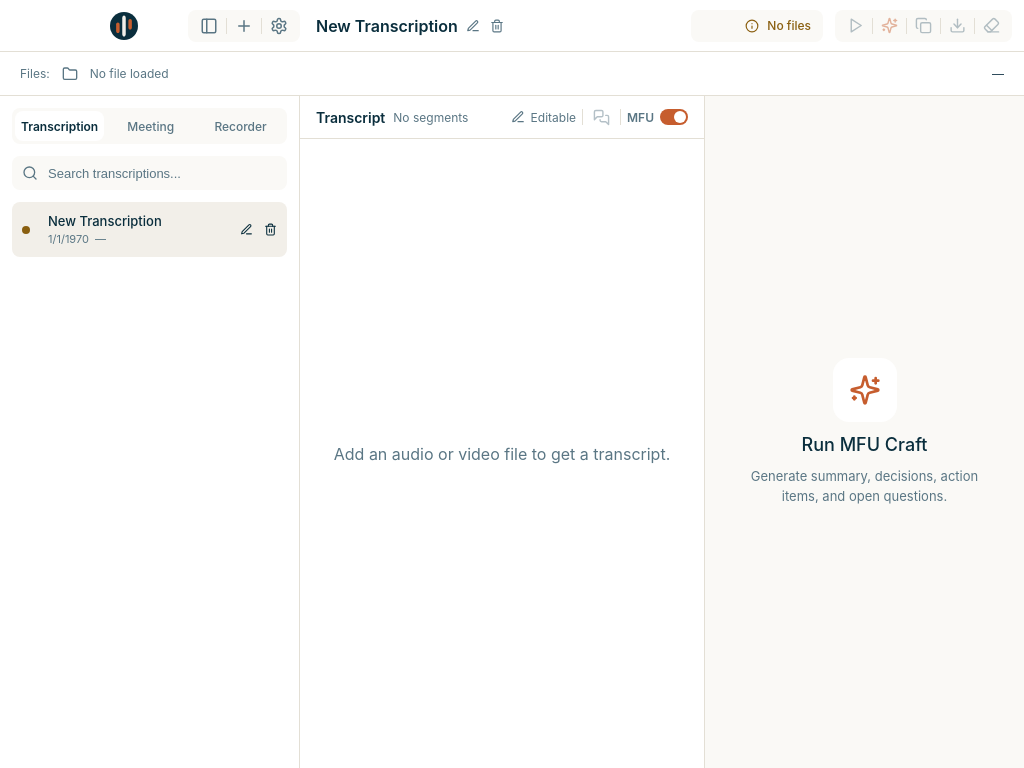
Scenario: App — transcript editing › keeps speaker-crossing transcript text selectable and activates only one segment editor by click
Click the button named "Choose file".
click(70, 74)  # box [58, 62, 82, 86]
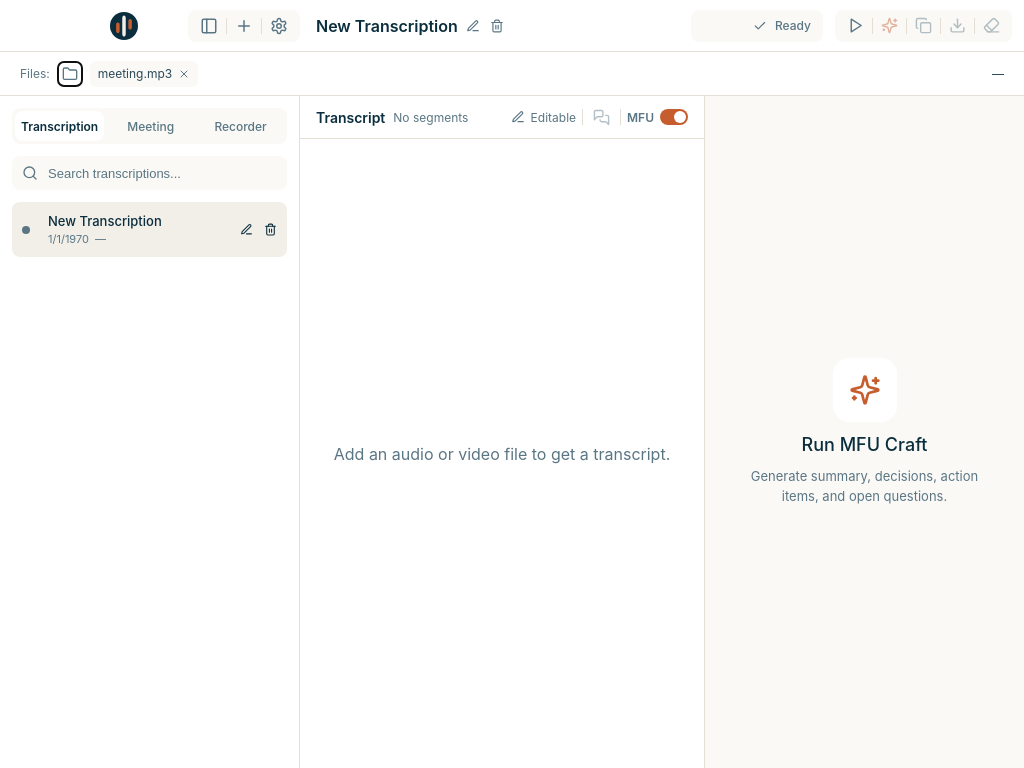
Check: the button named "Transcribe" is enabled
Click the button named "Transcribe".
click(856, 26)  # box [843, 13, 868, 38]
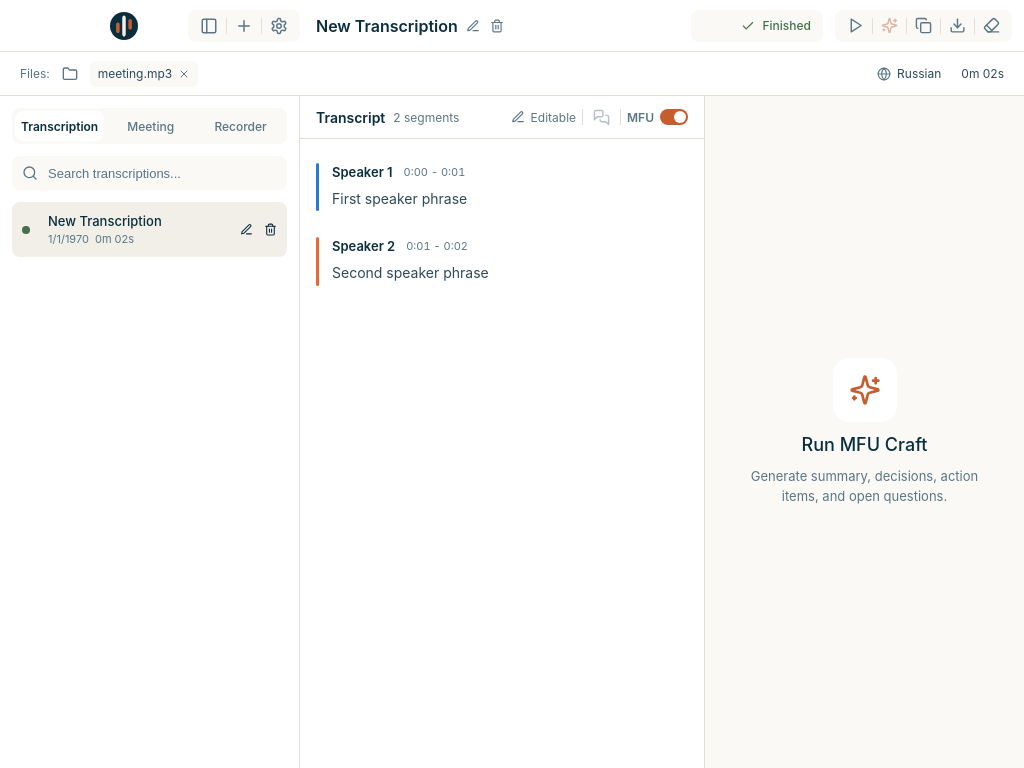
Check: the element with class "wp-transcript-content" is shown, box [316, 162, 489, 286]
Check: the button "Speaker 1" is shown, box [327, 162, 398, 182]
Click the field "First speaker phrase".
click(400, 198)  # box [332, 190, 467, 207]
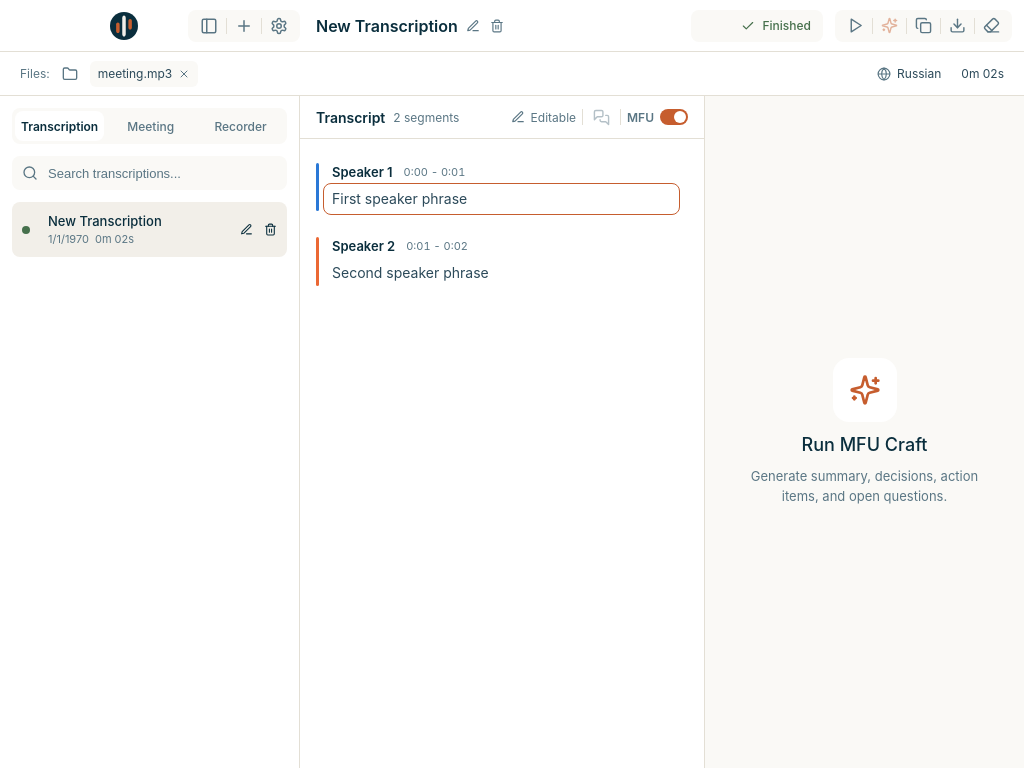
Check: the field "Second speaker phrase" is shown, box [332, 264, 489, 281]
Check: the number of text boxes is 1, box [323, 183, 680, 215]
